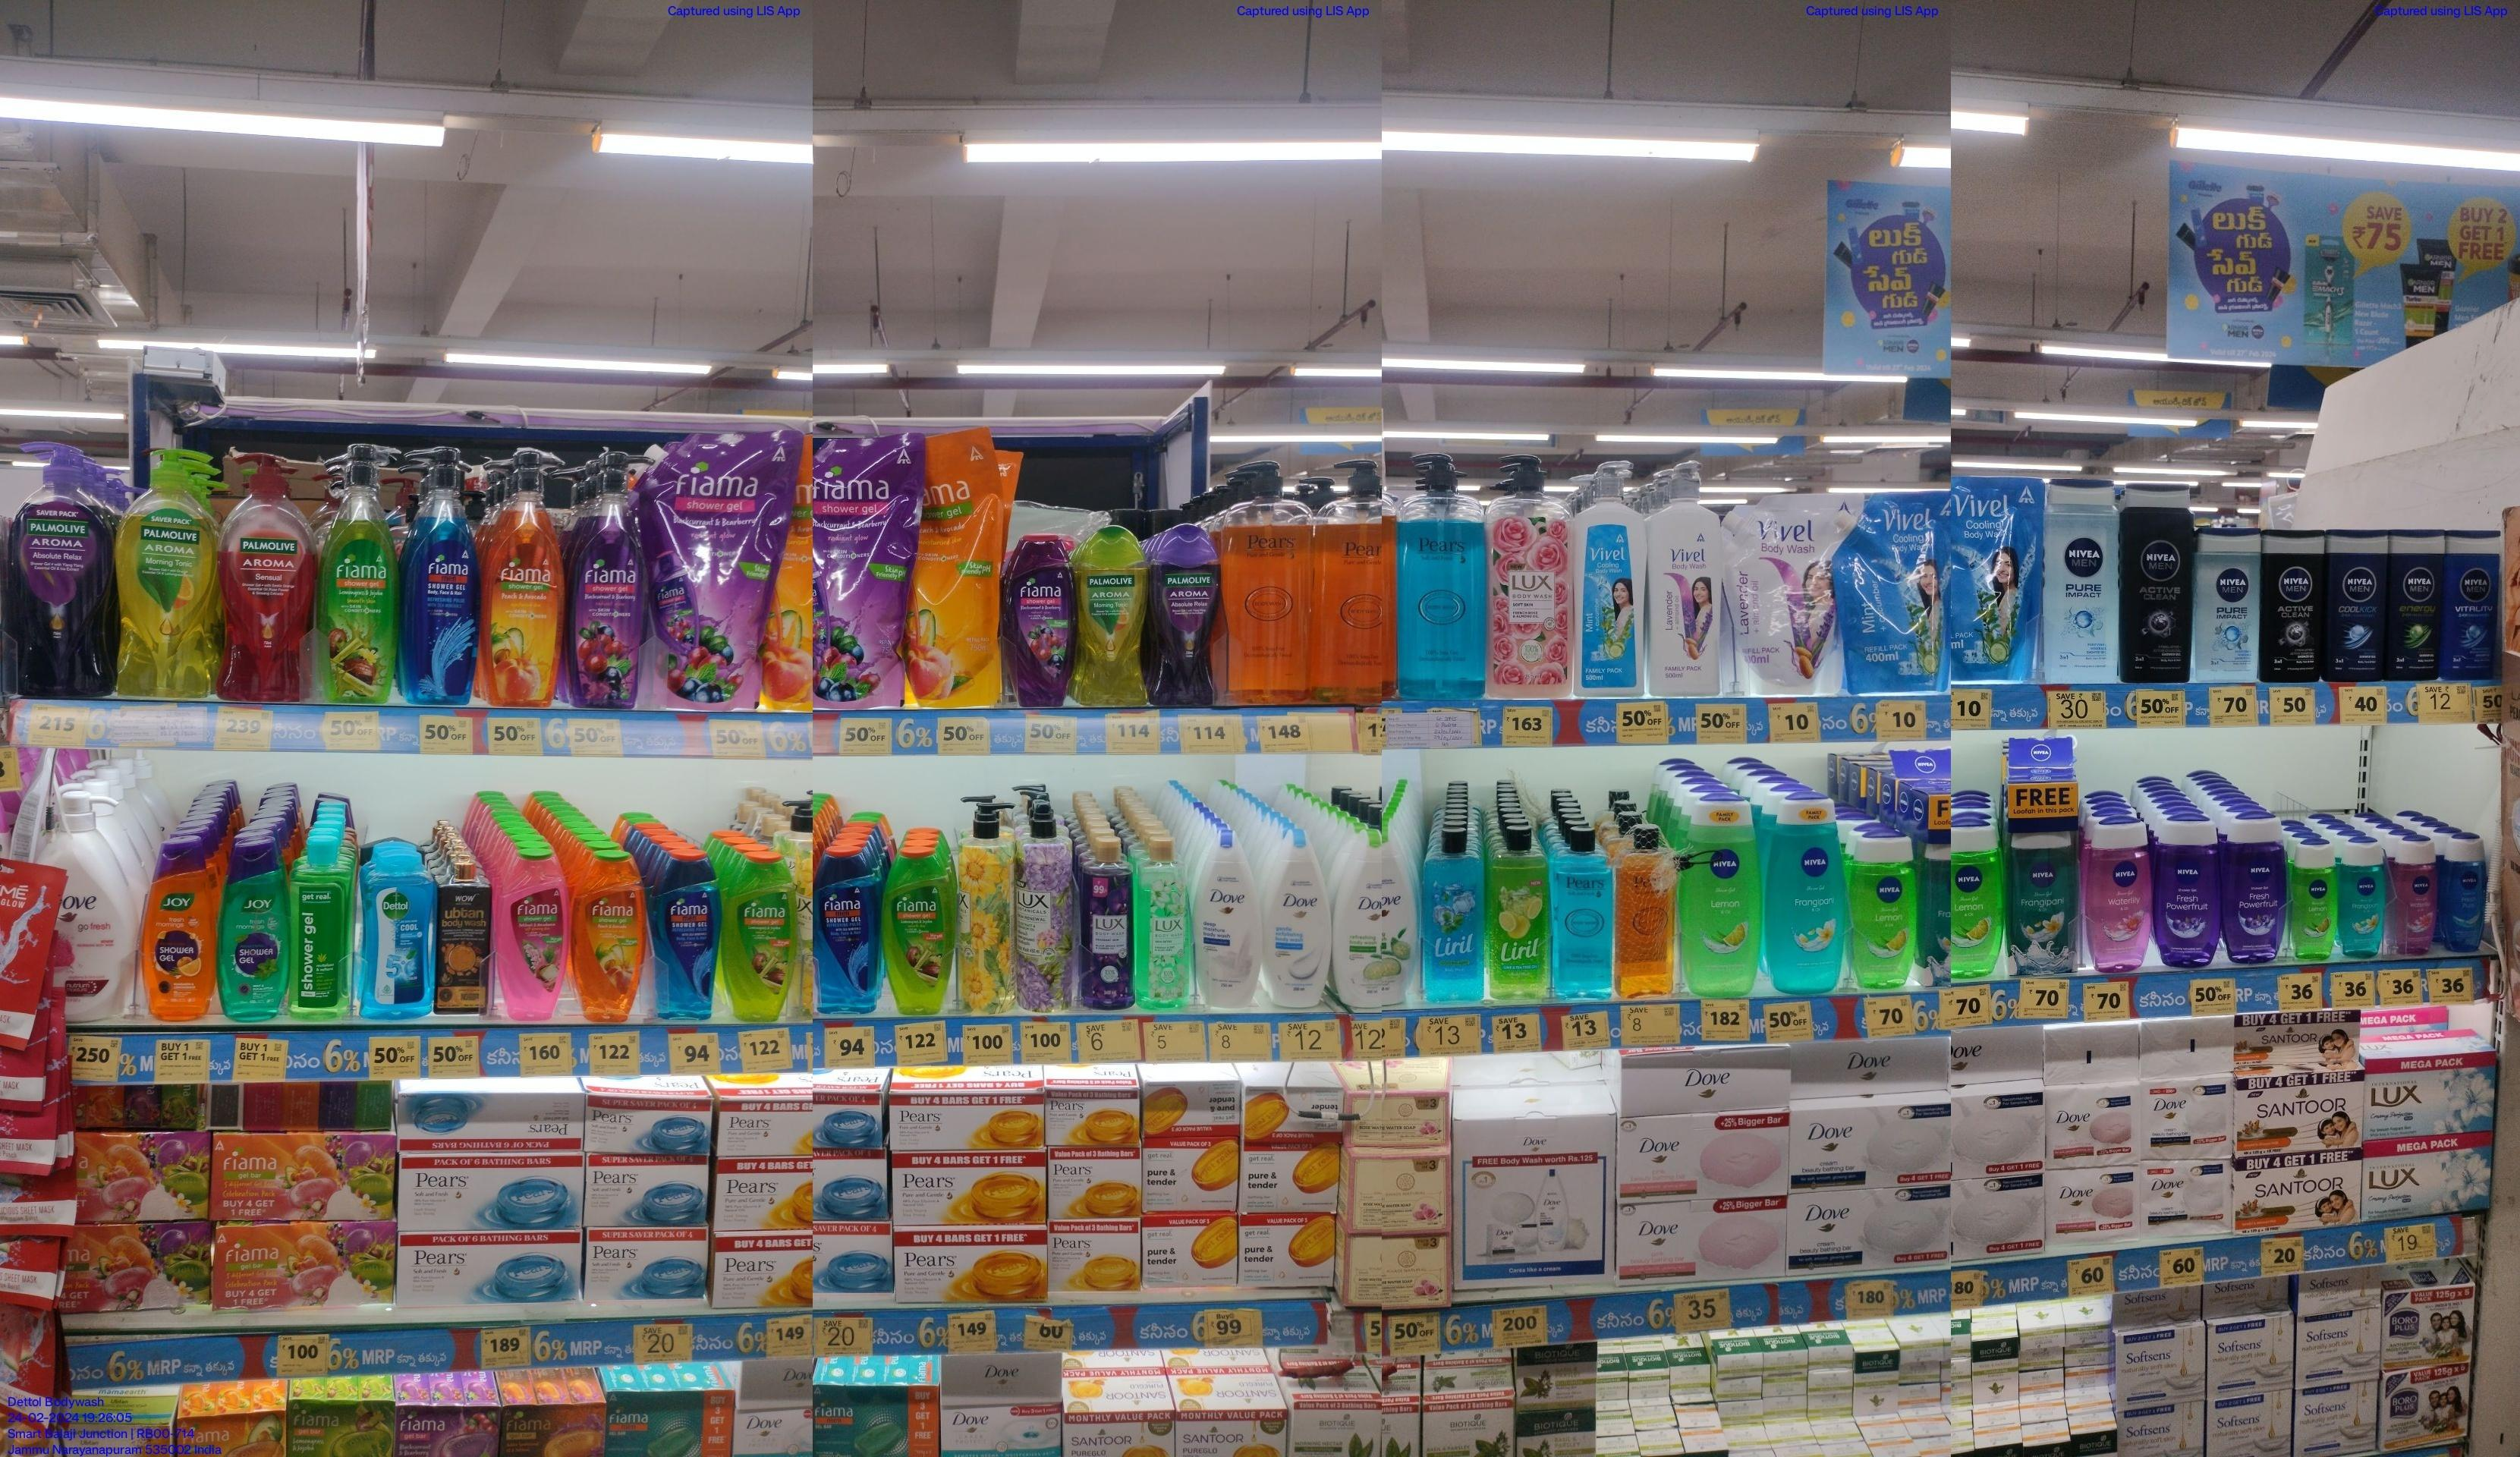Dettol_Bodywash_Cool: (361, 859, 434, 1020)
Dove_Deep_Moisture_Body_Wash_250ML: (1197, 831, 1261, 1008)
Dove_Gentle_Exfoliating_Body_Wash_250ML: (1266, 829, 1332, 1008)
Fiama_Shower_Gel_Lemongrass_and_Jojoba_250ML: (727, 857, 796, 1020), (883, 850, 949, 1013)
Fiama_Shower_Gel_Patchouli_and_Macadamia_250ML: (499, 857, 567, 1022)
Fiama_Shower_Gel_Peach_and_Avocado_250ML: (576, 853, 642, 1023)
Joy_Shower_Gel_Mandarin_and_Lemongrass_250ML: (140, 841, 213, 1020)
Joy_Shower_Gel_Mint_and_Eucalyptus_250ML: (219, 840, 283, 1022)
Liril_Cooling_Mint_Body_Wash_250ML: (1424, 831, 1485, 1004)
Liril_Lime_and_Tea_Tree_Oil_Body_Wash_250ML: (1490, 827, 1549, 1001)
Lux_Black_Orchid_Scent_and_Juniper_Oil_Body_Wash_245ML: (1084, 838, 1134, 1009)
Lux_Body_Wash_Skin_Detox_Freesia_Scent_and_Alove_Vera_245ML: (1139, 838, 1193, 1008)
Nivea_Shower_Gel_Frangipani_and_Oil_250ML: (1767, 798, 1840, 994), (2014, 834, 2078, 975)
Nivea_Shower_Gel_Fresh_Powerfruit_250ML: (2158, 819, 2220, 970), (2227, 820, 2286, 963)
Nivea_Shower_Gel_Lemon_and_Oil_250ML: (1686, 798, 1760, 996), (1854, 834, 1918, 990)
Nivea_Shower_Gel_Waterlily_and_Oil_250ML: (2088, 822, 2149, 973)
Palmolive_Aroma_Morning_Tonic_Shower_Gel_250ML: (1082, 527, 1150, 708)
Palmolive_Aroma_Relax_250ML: (1157, 524, 1219, 706)
Pears_Pure_Glycerin_and_Mint_Extracts_Body_Wash_250ML: (1557, 831, 1613, 997)
